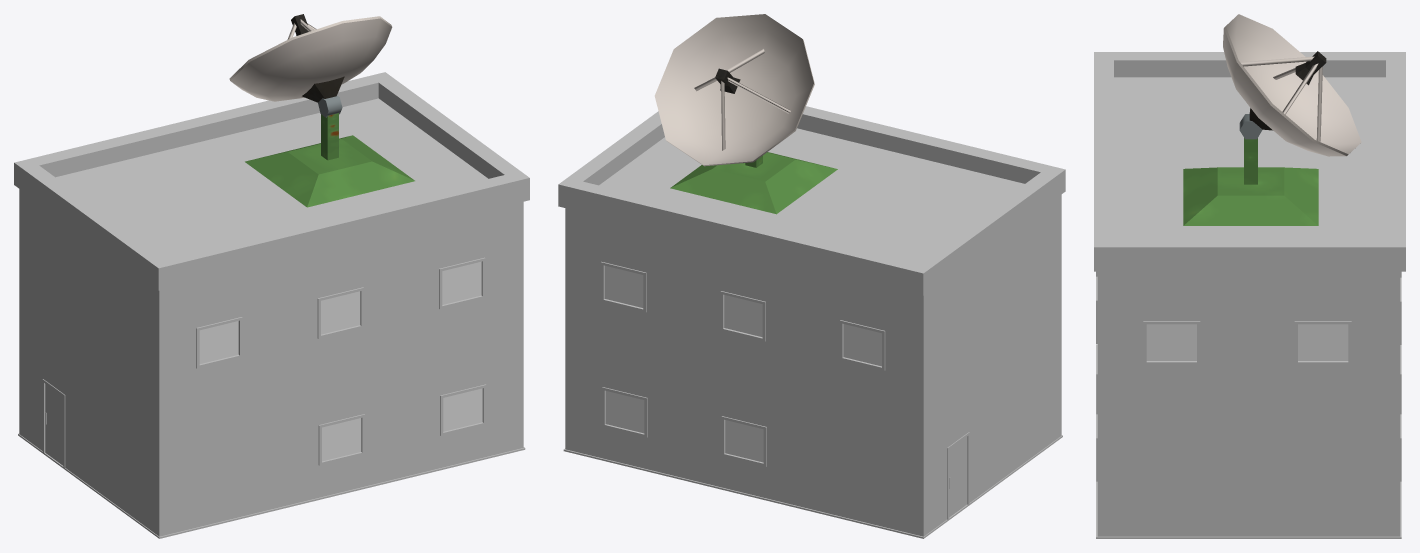
File: AirportAntena01.fbx
3 views of the same model, side by side, from view 1: azimuth 30°, elevation 25°; view 2: azimuth 150°, elevation 25°; view 3: azimuth 270°, elevation 25° (orthographic). The views are drawn at different scales.
Parts seen in each view (by area): view 1: Airport.001, AirRoof5.004, AirFloor.002, Steklo.024, Steklo.023, Steklo.022, Steklo.021, Steklo.027, SMdoor2.005; view 2: Airport.001, AirRoof5.004, AirFloor.002, Steklo.026, Steklo.025, Steklo.028, Steklo.017, Steklo.018, SMdoor2.005; view 3: Airport.001, AirRoof5.004, Steklo.019, Steklo.020, AirFloor.002.
Part boxes in pixels (x1=…): Airport.001: x1=19, y1=189, x2=523, y2=536; AirRoof5.004: x1=14, y1=14, x2=529, y2=290; AirFloor.002: x1=18, y1=433, x2=525, y2=538; Steklo.024: x1=443, y1=388, x2=482, y2=431; Steklo.023: x1=322, y1=418, x2=361, y2=461; Steklo.022: x1=321, y1=291, x2=360, y2=334; Steklo.021: x1=442, y1=261, x2=481, y2=304; Steklo.027: x1=199, y1=321, x2=238, y2=363; SMdoor2.005: x1=45, y1=384, x2=63, y2=465; Airport.001: x1=565, y1=194, x2=1061, y2=536; AirRoof5.004: x1=558, y1=14, x2=1065, y2=295; AirFloor.002: x1=563, y1=435, x2=1062, y2=538; Steklo.026: x1=725, y1=420, x2=763, y2=462; Steklo.025: x1=606, y1=391, x2=644, y2=433; Steklo.028: x1=843, y1=324, x2=881, y2=366; Steklo.017: x1=724, y1=295, x2=762, y2=337; Steklo.018: x1=605, y1=265, x2=643, y2=307; SMdoor2.005: x1=949, y1=437, x2=967, y2=517; Airport.001: x1=1096, y1=271, x2=1401, y2=536; AirRoof5.004: x1=1094, y1=14, x2=1405, y2=271; Steklo.019: x1=1298, y1=324, x2=1348, y2=360; Steklo.020: x1=1146, y1=324, x2=1196, y2=360; AirFloor.002: x1=1096, y1=344, x2=1401, y2=538.
Bounding box in the file's own units: 1223 × 1306 × 825.
